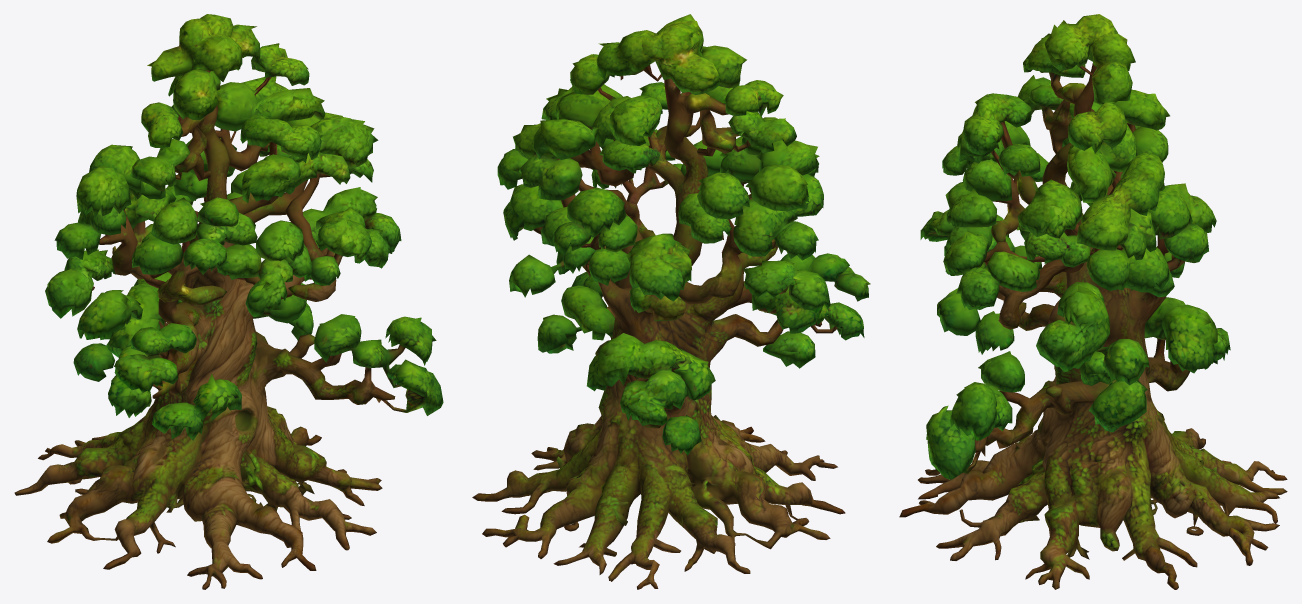
Rendered from ancient_oak.glb.
3 renders of one model, left to right at view 1: azimuth 30°, elevation 25°; view 2: azimuth 150°, elevation 25°; view 3: azimuth 270°, elevation 25°, orthographic.
Visible parts, largest first — view 1: tripo_node_fc4b1f18-4800-473c-bb7b-b6a50ff711d9; view 2: tripo_node_fc4b1f18-4800-473c-bb7b-b6a50ff711d9; view 3: tripo_node_fc4b1f18-4800-473c-bb7b-b6a50ff711d9.
Part boxes in pixels (<box>): tripo_node_fc4b1f18-4800-473c-bb7b-b6a50ff711d9: <box>14,14,443,589</box>; tripo_node_fc4b1f18-4800-473c-bb7b-b6a50ff711d9: <box>472,14,870,589</box>; tripo_node_fc4b1f18-4800-473c-bb7b-b6a50ff711d9: <box>899,14,1287,589</box>.
Bounding box in the file's own units: 0.7084 × 0.981 × 0.693.
Materials: 1 (1 with a texture image).
